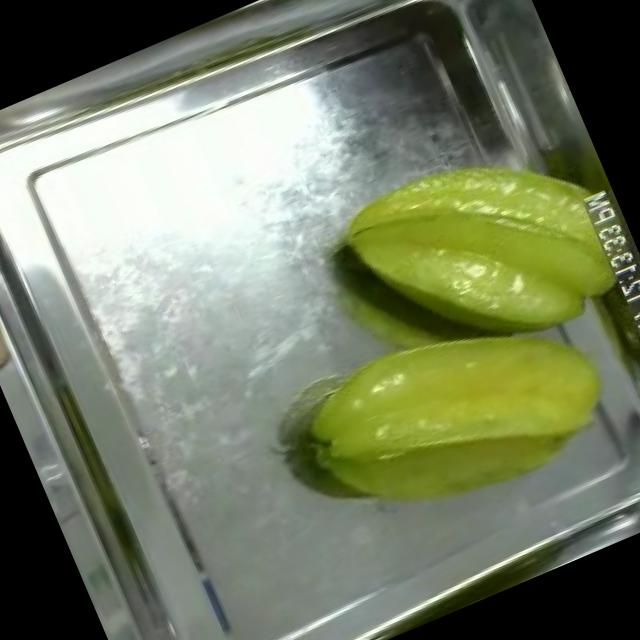fruit: (262, 259, 638, 568), (314, 99, 640, 411)
